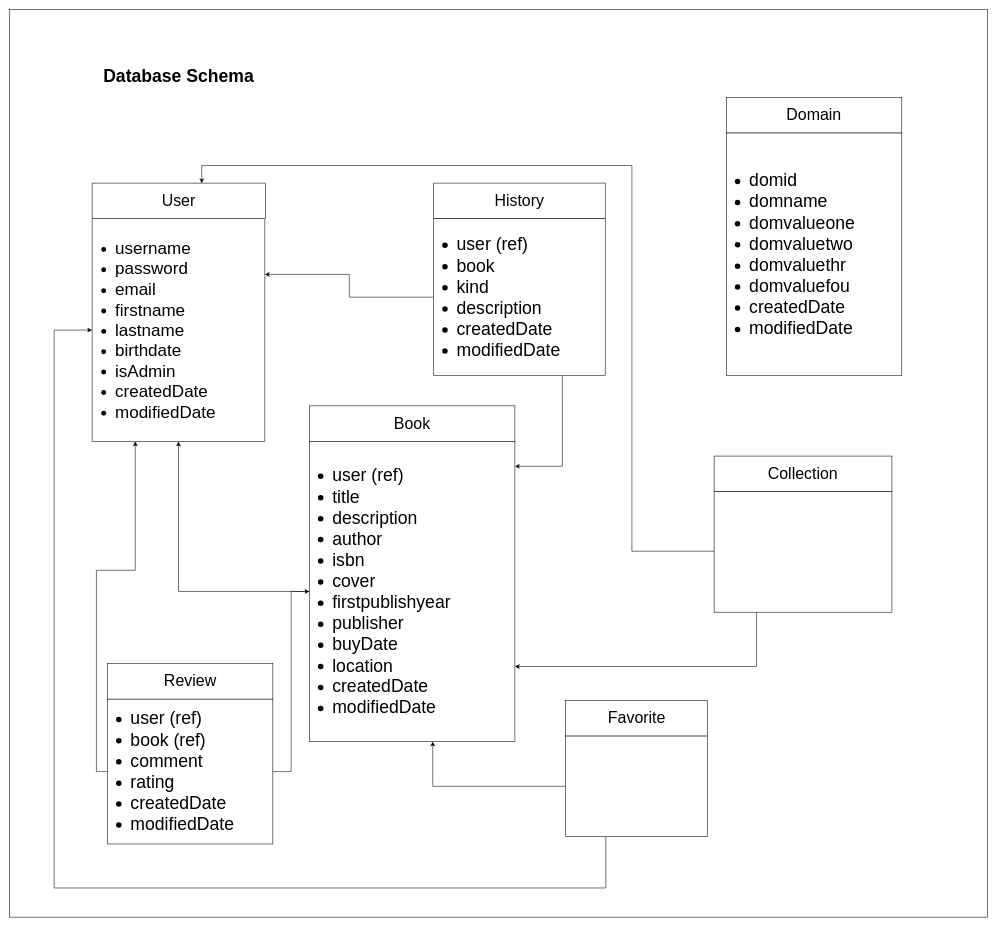
This 997x927 diagram has some shape labels left out. Here are the shapes that lost their labels. From the top down, the box of each, then its label:
(714, 491, 892, 612): user (ref) collname booklist createdDate modifiedDate
(565, 736, 708, 837): user (ref) book (ref) createdDate modifiedDate
